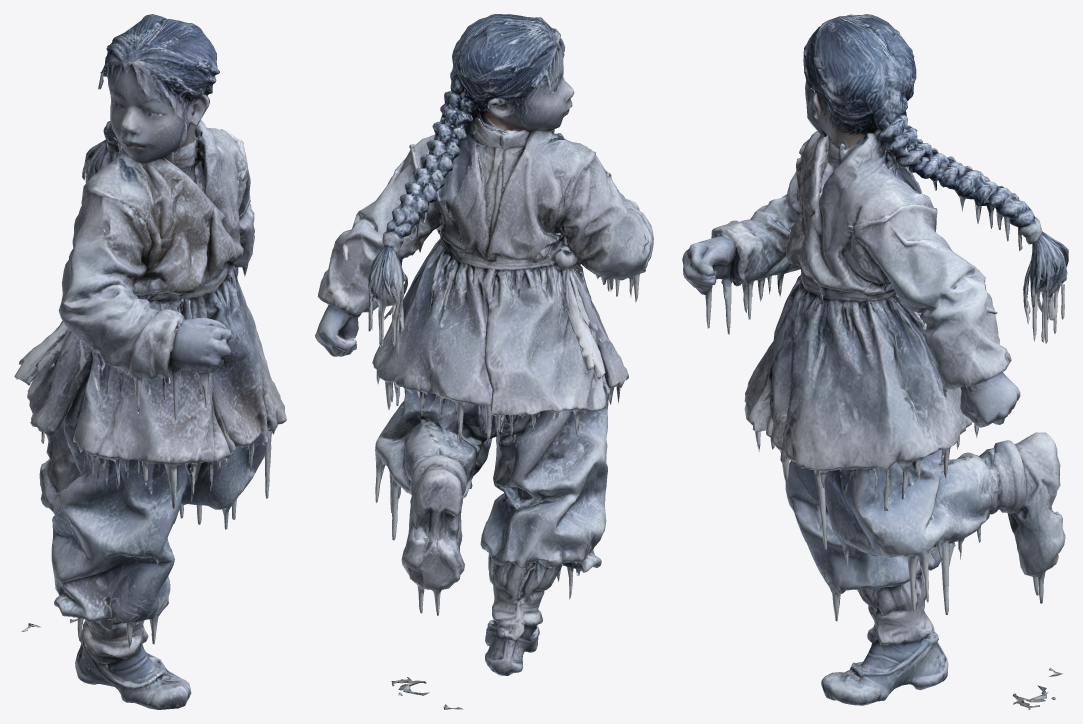
Rendered from PR_FrozenVillager_Boy.fbx.
3 views of the same model, side by side, from view 1: azimuth 30°, elevation 25°; view 2: azimuth 150°, elevation 25°; view 3: azimuth 270°, elevation 25° (orthographic). The views are drawn at different scales.
Visible parts, largest first — view 1: texture_mapping; view 2: texture_mapping; view 3: texture_mapping.
Boxes of the visible parts, left/top/right/bottom form: texture_mapping: left=14, top=14, right=286, bottom=709; texture_mapping: left=315, top=14, right=653, bottom=709; texture_mapping: left=682, top=14, right=1068, bottom=709.
Size of the model in its own units: 0.4189 by 0.5194 by 0.9998.
1 material, 1 textured.
